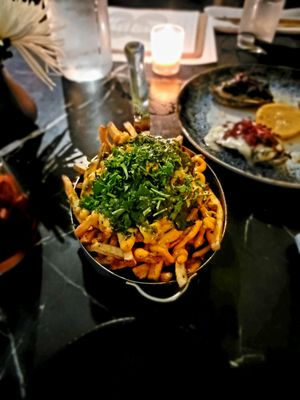sushi: (67, 128, 229, 305)
